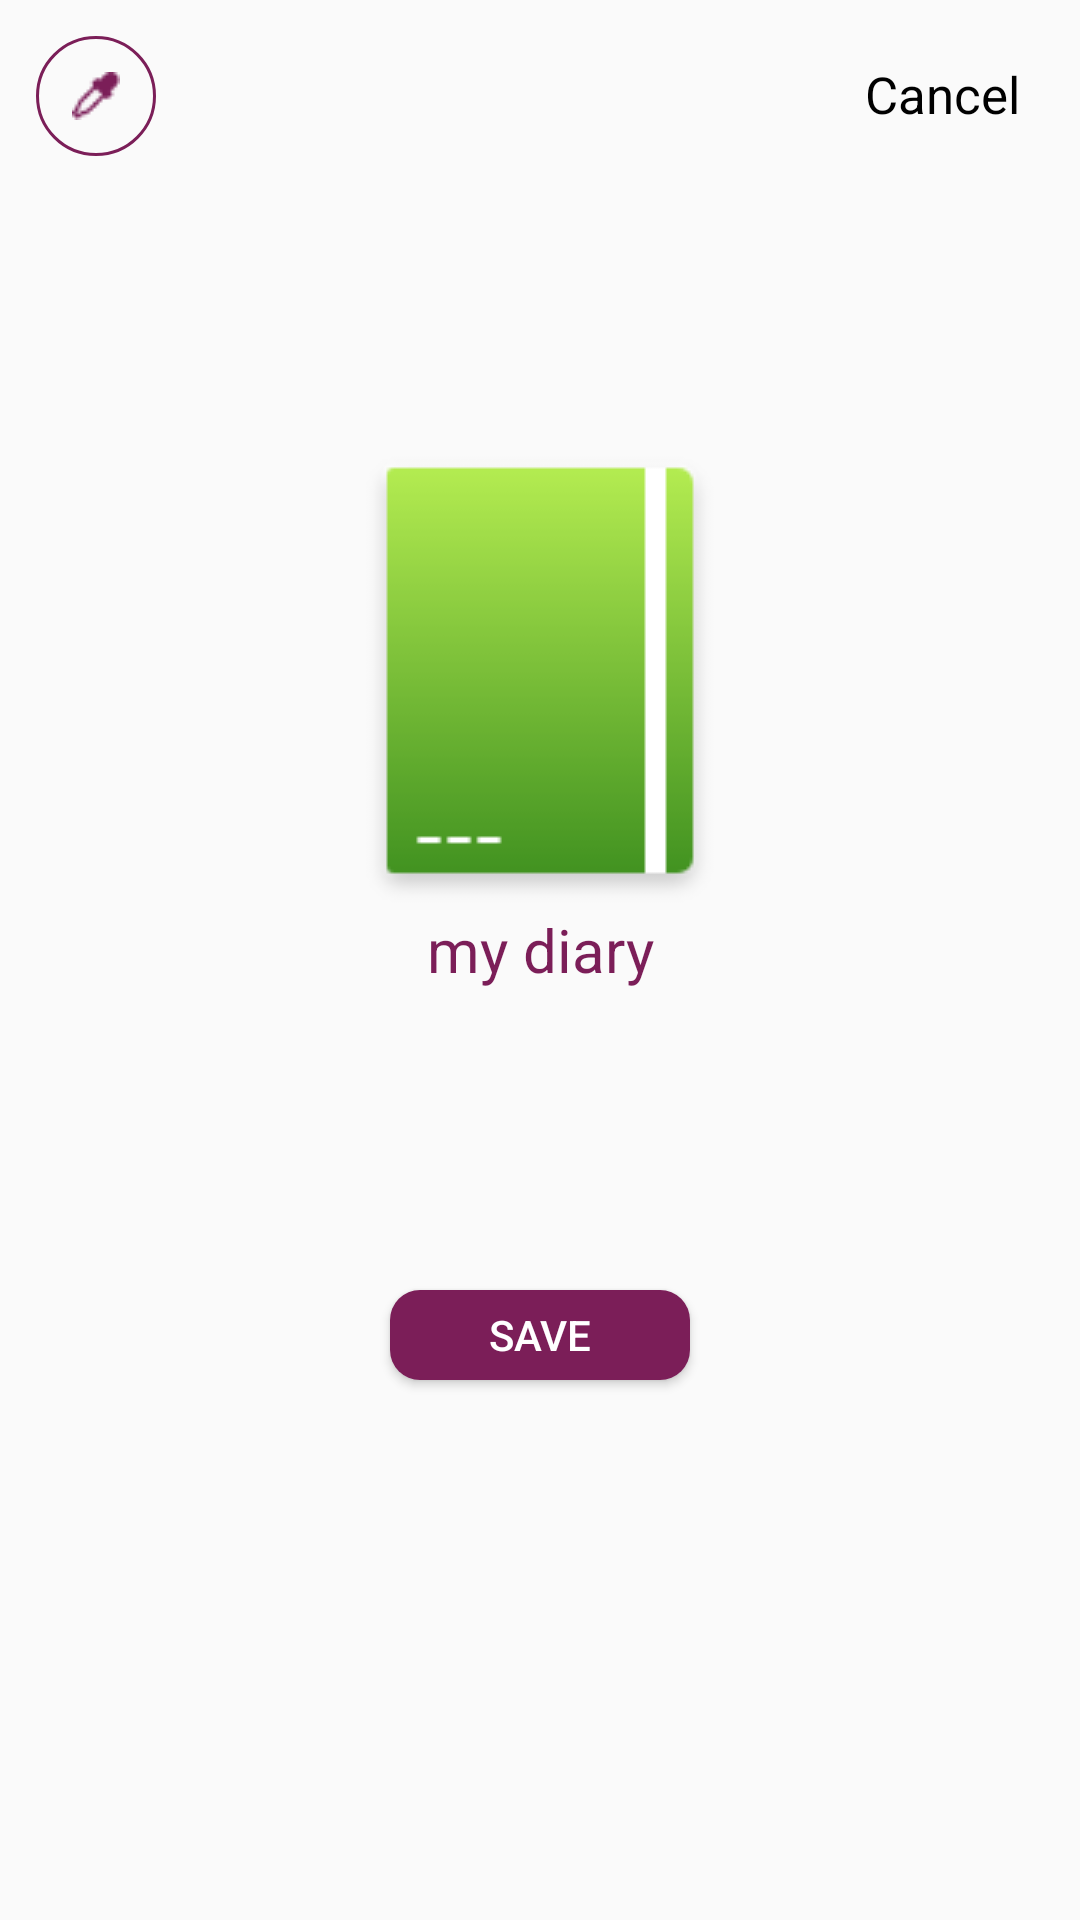

Icons on this 1080 x 1920 Android screen, each with the point to tap as (x=x, y=y):
pick: (x=96, y=96)
